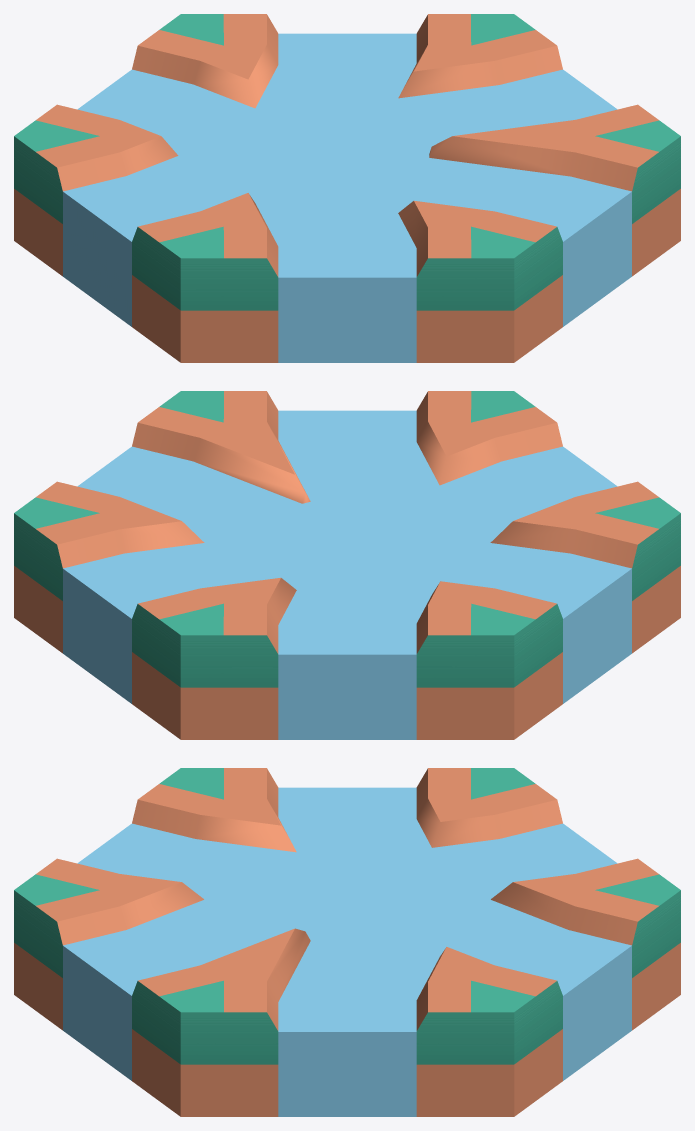
Rendered from river-crossing.glb.
The picture shows the model from 3 angles, top to bottom: view 1: azimuth 30°, elevation 25°; view 2: azimuth 150°, elevation 25°; view 3: azimuth 270°, elevation 25°; orthographic projection.
Parts seen in each view (by area): view 1: river-crossing; view 2: river-crossing; view 3: river-crossing.
Part boxes in pixels (x1=…): river-crossing: x1=14, y1=14, x2=680, y2=362; river-crossing: x1=14, y1=391, x2=680, y2=739; river-crossing: x1=14, y1=768, x2=680, y2=1116.
Bounding box in the file's own units: 1 × 0.2 × 1.15.
Materials: 1 (1 with a texture image).
